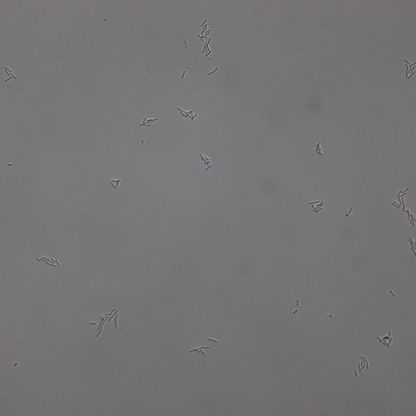R(colony): (392, 186, 416, 228), (89, 308, 118, 339), (353, 356, 369, 378), (35, 255, 60, 269), (402, 57, 416, 81), (376, 331, 394, 348), (197, 19, 210, 41), (202, 43, 216, 62), (309, 199, 325, 215), (177, 107, 196, 120), (3, 67, 17, 84), (200, 153, 213, 170), (190, 345, 210, 355), (139, 117, 157, 128), (314, 143, 324, 157), (111, 178, 120, 189)
